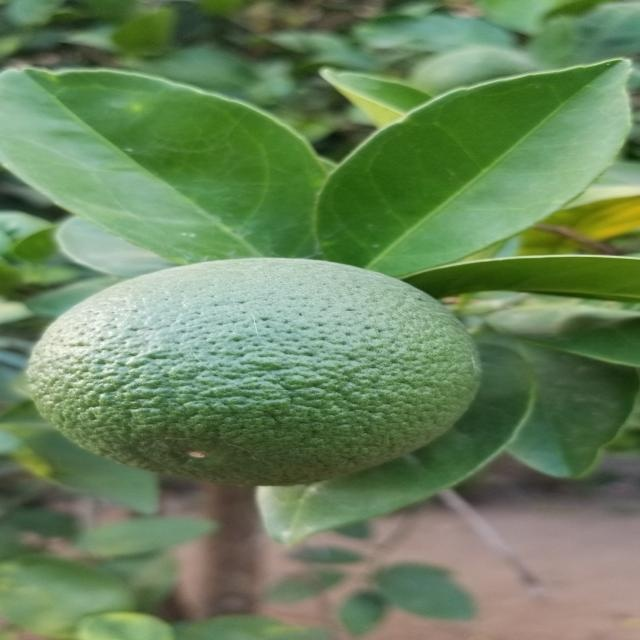agrume: (16, 252, 490, 496)
